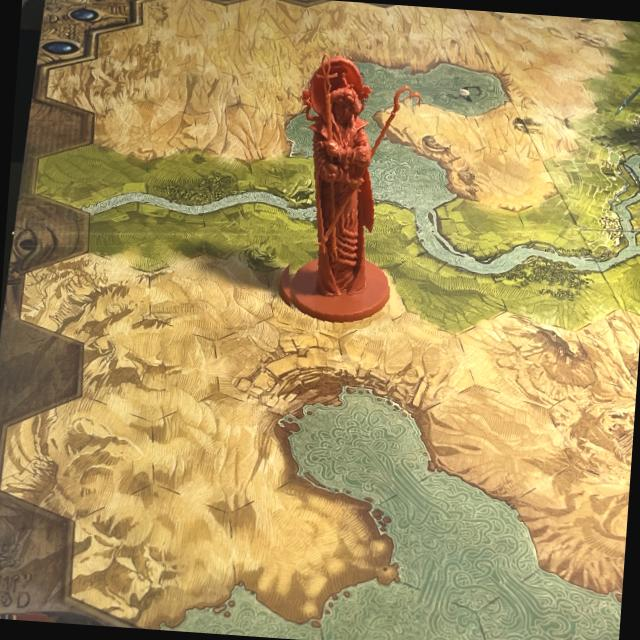amon: (268, 42, 431, 336)
